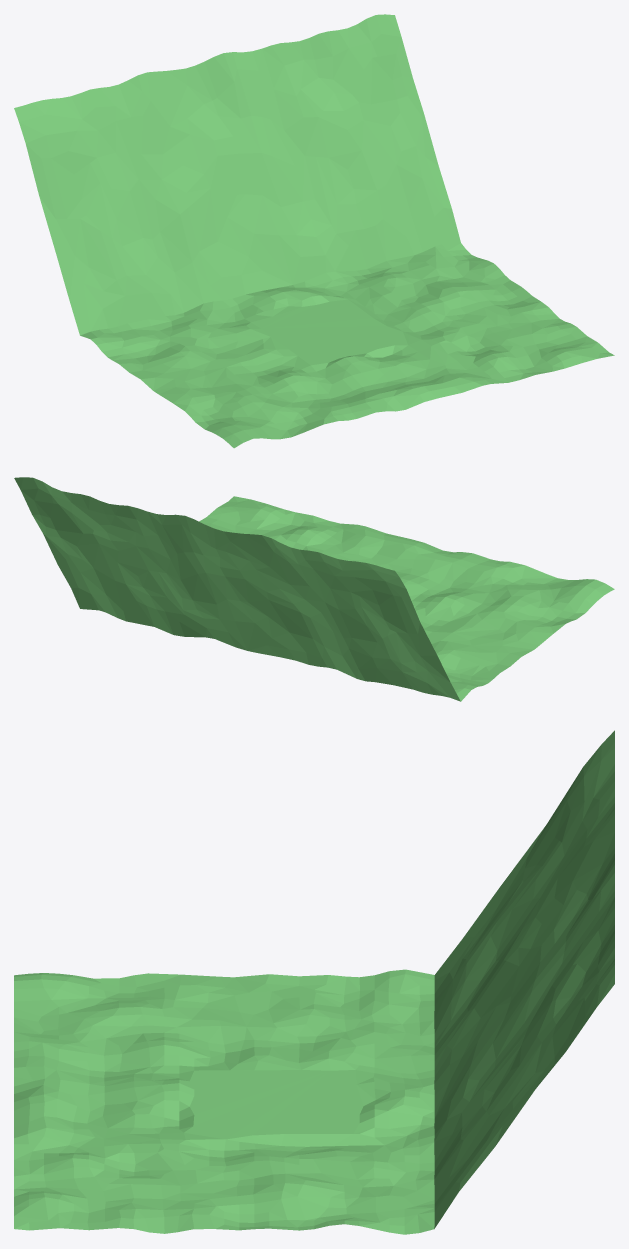
The model's file is terrain_fase1.fbx.
3 renders of one model, top to bottom at view 1: azimuth 30°, elevation 25°; view 2: azimuth 150°, elevation 25°; view 3: azimuth 270°, elevation 25°, orthographic. The views are drawn at different scales.
Parts seen in each view (by area): view 1: Terrain_Fase1; view 2: Terrain_Fase1; view 3: Terrain_Fase1.
Boxes of the visible parts, x1,y1,x2,y2 form: Terrain_Fase1: [14, 14, 614, 448]; Terrain_Fase1: [14, 477, 614, 701]; Terrain_Fase1: [14, 730, 614, 1234].
Size of the model in its own units: 10001 by 4780 by 10003.
